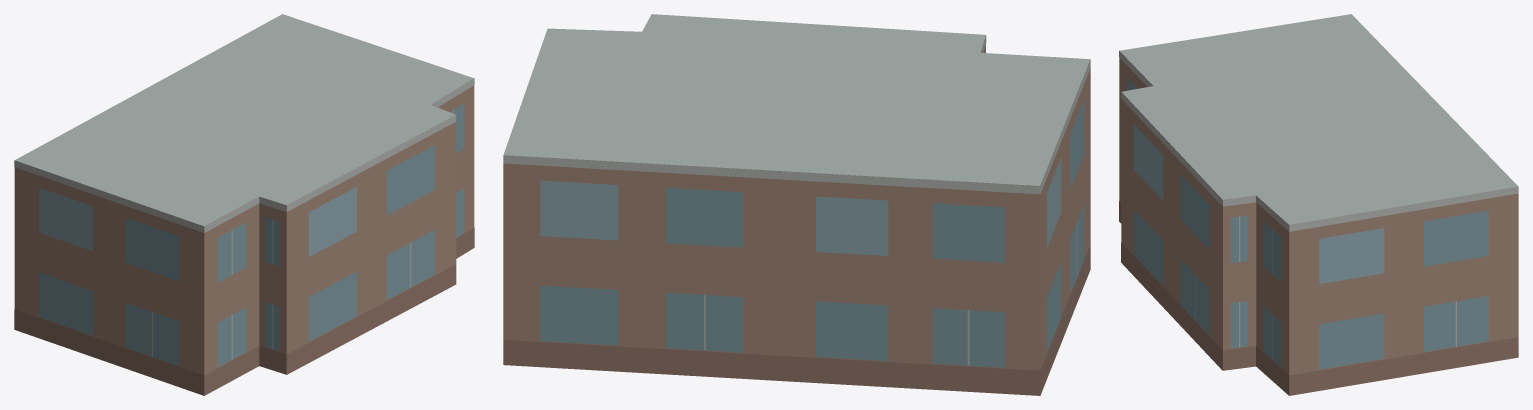
Rendered from survey-upis-32854689.glb.
3 views of the same model, side by side, from view 1: azimuth 30°, elevation 25°; view 2: azimuth 150°, elevation 25°; view 3: azimuth 270°, elevation 25° (orthographic). The views are drawn at different scales.
Parts seen in each view (by area): view 1: survey-upis-32854689.tmp; view 2: survey-upis-32854689.tmp; view 3: survey-upis-32854689.tmp.
Part boxes in pixels (bbox=[...]): survey-upis-32854689.tmp: bbox=[14, 14, 474, 395]; survey-upis-32854689.tmp: bbox=[503, 14, 1090, 395]; survey-upis-32854689.tmp: bbox=[1119, 14, 1518, 395].
Bounding box in the file's own units: 16.17 × 6.1 × 12.93.
